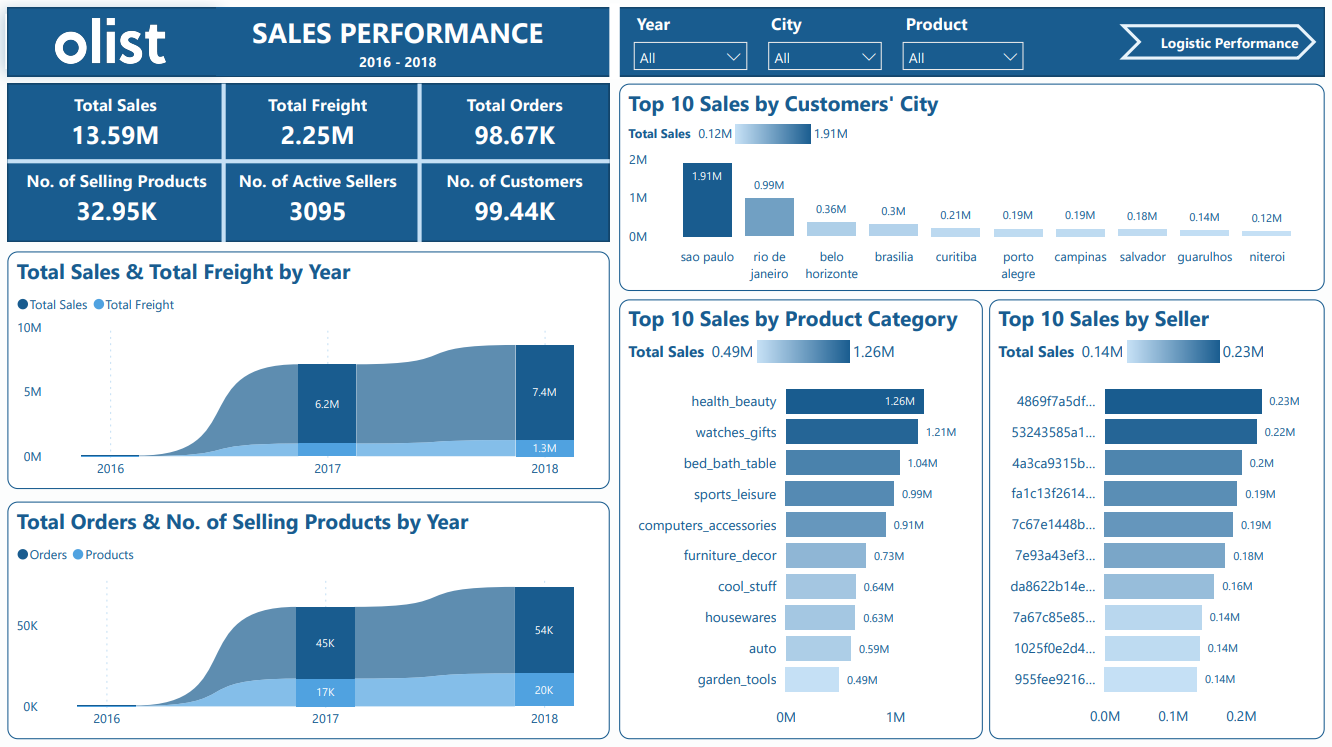

Layout of this report page (visuals, bound fields, positions):
{"tool":"powerbi","page":{"name":"Sales Performance","canvas":[1280,720],"ordinal":0},"visuals":[{"type":"shape","box":[9,7,1264,66],"z":0},{"type":"group","id":"g1","title":"Group 2","box":[9.2,80,577.5,151.7],"z":0,"group":"g3"},{"type":"shape","box":[9.2,80,577.5,151.7],"z":0,"group":"g1"},{"type":"card","title":"Total Sales","fields":{"Values":["Sum(olist_order_items_dataset.price)"]},"box":[15.9,89.2,193.3,59.2],"z":0,"group":"g2"},{"type":"group","id":"g2","title":"Group 1","box":[15.9,89.2,570.8,132.5],"z":7,"group":"g1"},{"type":"textbox","box":[216.7,7.2,311.1,66.1],"z":1000},{"type":"shape","box":[188,80,57,152],"z":1000,"group":"g3"},{"type":"card","title":"Total Freight","fields":{"Values":["Sum(olist_order_items_dataset.freight_value)"]},"box":[209.2,89.2,195.8,59.2],"z":1000,"group":"g2"},{"type":"image","box":[7,13,202,53],"z":2000},{"type":"shape","box":[376,80,57,152],"z":2000,"group":"g3"},{"type":"card","title":"Total Orders","fields":{"Values":["Count(olist_order_items_dataset.order_id)"]},"box":[405.1,89.2,181.7,59.2],"z":2000,"group":"g2"},{"type":"group","id":"g3","title":"Group 3","box":[9,80,578,152],"z":3000},{"type":"shape","box":[9,145,578,19],"z":3000,"group":"g3"},{"type":"card","title":"No. of Selling Products","fields":{"Values":["Count(olist_order_items_dataset.product_id)"]},"box":[17.6,162.5,191.7,59.2],"z":3000,"group":"g2"},{"type":"card","title":"No. of Active Sellers","fields":{"Values":["Count(olist_order_items_dataset.seller_id)"]},"box":[209.2,162.5,195.8,59.2],"z":4000,"group":"g2"},{"type":"ribbonChart","title":"Total Sales & Total Freight by Year","fields":{"Y":["Sum(olist_order_items_dataset.price)","Sum(olist_order_items_dataset.freight_value)"],"Category":["olist_orders_dataset.year Hierarchy.year"]},"box":[9,241,578,228],"z":4000},{"type":"card","title":"No. of Customers","fields":{"Values":["Count(olist_customers_dataset.customer_id)"]},"box":[405.1,161.7,181.7,59.2],"z":5000,"group":"g2"},{"type":"ribbonChart","title":"Total Orders & No. of Selling Products by Year","fields":{"Y":["Count(olist_order_items_dataset.order_id)","Count(olist_order_items_dataset.product_id)"],"Category":["olist_orders_dataset.year Hierarchy.year"]},"box":[9,481,578,228],"z":5000},{"type":"columnChart","title":"Top 10 Sales by City ","fields":{"Y":["Sum(olist_order_items_dataset.price)"],"Category":["olist_customers_dataset.customer_city"]},"box":[595.6,80,676.7,198.9],"z":6000},{"type":"clusteredBarChart","title":"Top 10 Sales by City ","fields":{"Category":["product_category_name_translation.product_category_name_english"],"Y":["Sum(olist_order_items_dataset.price)"]},"box":[596,287,349,422],"z":7000},{"type":"clusteredBarChart","title":"Top 10 Sales by City ","fields":{"Category":["olist_order_items_dataset.seller_id"],"Y":["Sum(olist_order_items_dataset.price)"]},"box":[950.8,286.7,321.7,421.7],"z":8000},{"type":"slicer","fields":{"Values":["olist_customers_dataset.customer_city"]},"box":[728.8,6.9,129.4,60],"z":9000},{"type":"slicer","fields":{"Values":["product_category_name_translation.product_category_name_english"]},"box":[858.2,6.9,136.2,60],"z":10000},{"type":"slicer","fields":{"Values":["olist_orders_dataset.year Hierarchy.year_purchased"]},"box":[600,6.9,128.8,60],"z":11000},{"type":"shape","box":[574.3,3.3,35.2,73.3],"z":12000},{"type":"pageNavigator","box":[1076.1,23.3,189.4,34.4],"z":13000}]}

Visuals, with their boxes in screenshot pixels (x1, y1, x2, y2), scaled from the page's 1280x720 canvas onto the 1332x747 screenshot:
shape: [9,7,1325,76]
"Group 2" group: [10,83,611,240]
shape: [10,83,611,240]
"Total Sales" card: [17,93,218,154]
"Group 1" group: [17,93,611,230]
textbox: [226,7,549,76]
shape: [196,83,255,241]
"Total Freight" card: [218,93,421,154]
image: [7,13,217,68]
shape: [391,83,451,241]
"Total Orders" card: [422,93,611,154]
"Group 3" group: [9,83,611,241]
shape: [9,150,611,170]
"No. of Selling Products" card: [18,169,218,230]
"No. of Active Sellers" card: [218,169,421,230]
"Total Sales & Total Freight by Year" ribbonChart: [9,250,611,487]
"No. of Customers" card: [422,168,611,229]
"Total Orders & No. of Selling Products by Year" ribbonChart: [9,499,611,736]
"Top 10 Sales by City " columnChart: [620,83,1324,289]
"Top 10 Sales by City " clusteredBarChart: [620,298,983,736]
"Top 10 Sales by City " clusteredBarChart: [989,297,1324,735]
slicer - olist_customers_dataset.customer_city: [758,7,893,69]
slicer - product_category_name_translation.product_category_name_english: [893,7,1035,69]
slicer - olist_orders_dataset.year Hierarchy.year_purchased: [624,7,758,69]
shape: [598,3,634,79]
pageNavigator: [1120,24,1317,60]
